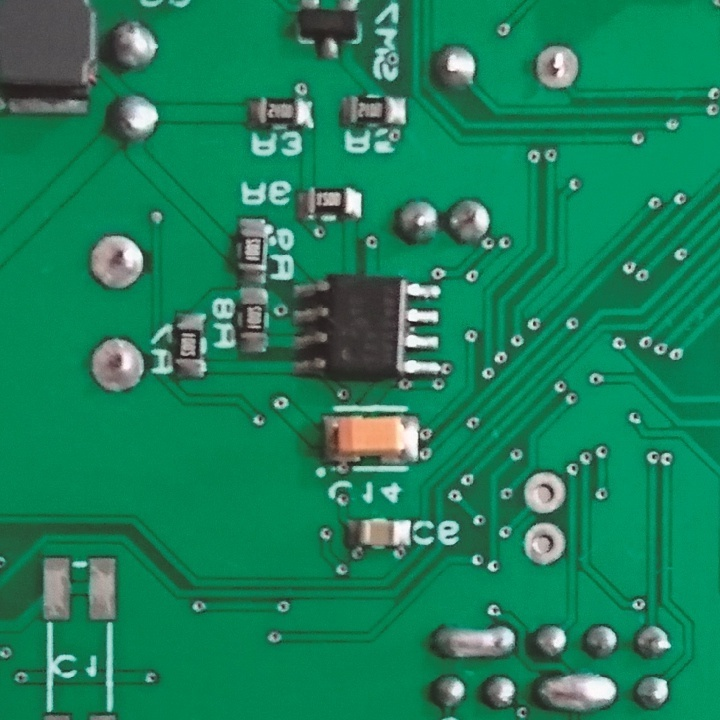F: (87, 230, 145, 295), (87, 337, 146, 392), (533, 43, 581, 91), (522, 518, 567, 568), (524, 469, 567, 517)
P: (429, 624, 520, 664), (536, 672, 619, 712)
